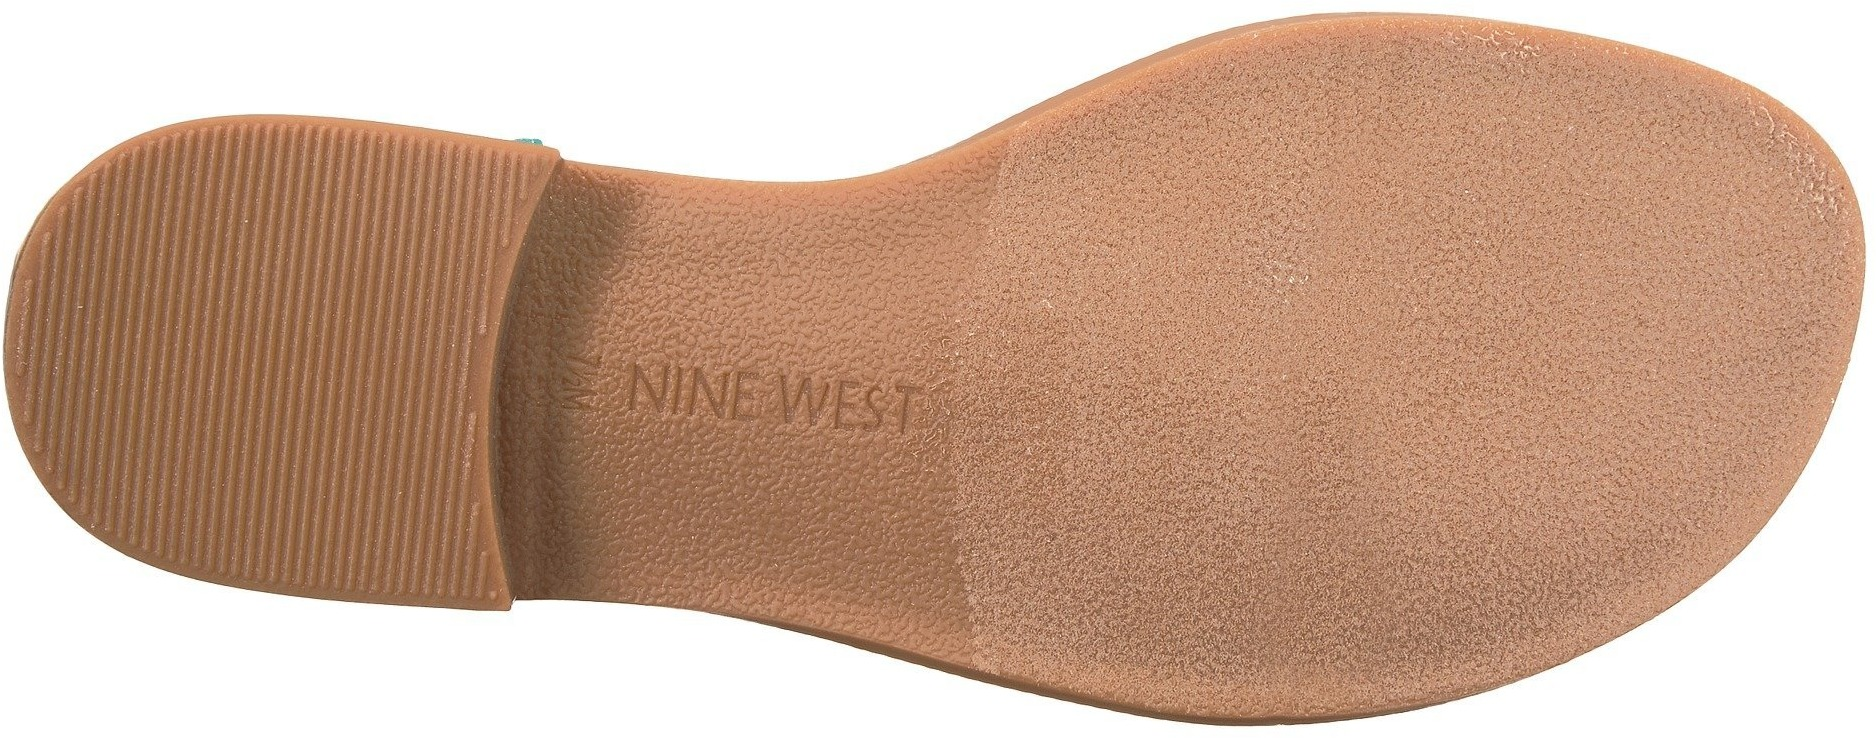exclude: (492, 150, 986, 696)
other: (1366, 83, 1710, 441), (1015, 144, 1359, 478), (246, 146, 476, 384), (1094, 489, 1330, 714), (250, 396, 465, 600), (1372, 447, 1598, 638), (51, 232, 237, 443)
